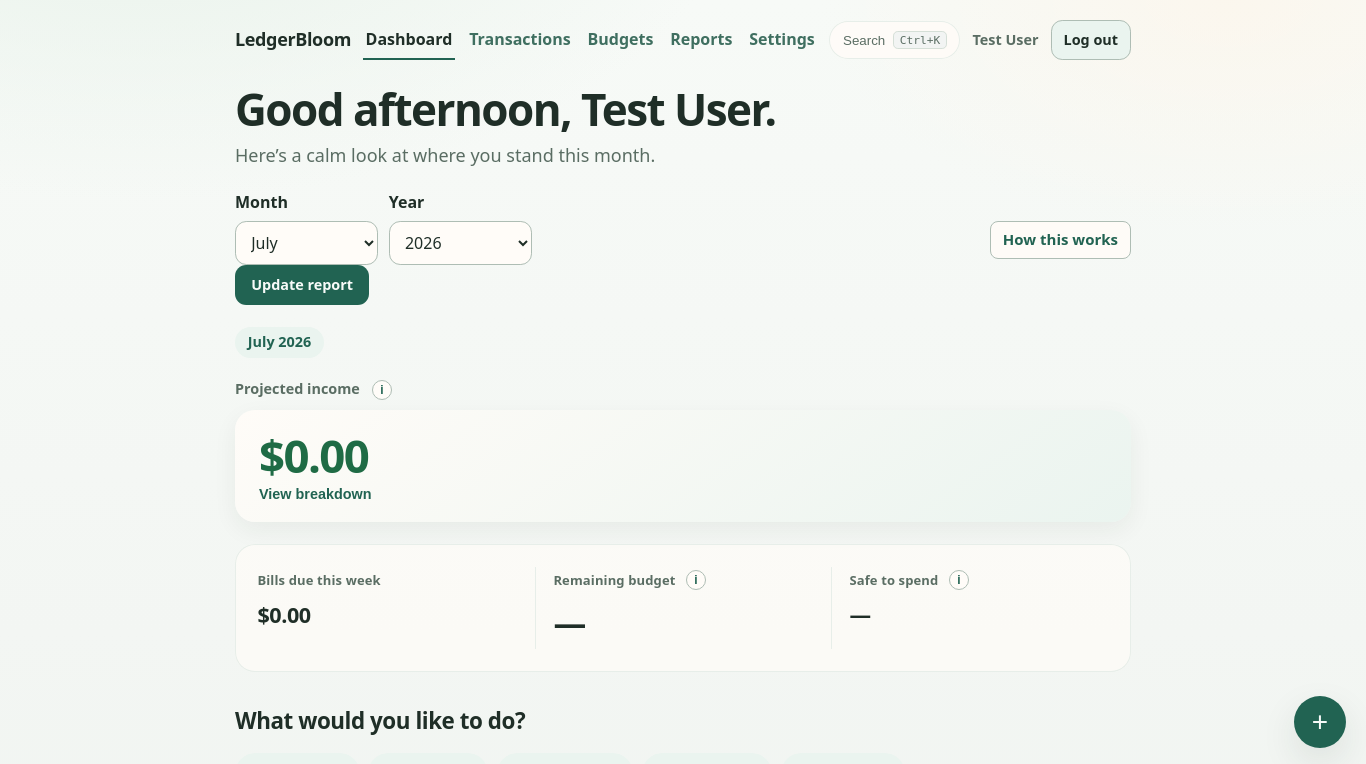
Test: Recurring routes › navigates from Dashboard to expenses with recurring bills via Transactions
expect the heading "Good afternoon, Test User." is shown: met, box [235,79,776,139]
Click the link "Transactions" at (520, 39), box [469,28,571,50]
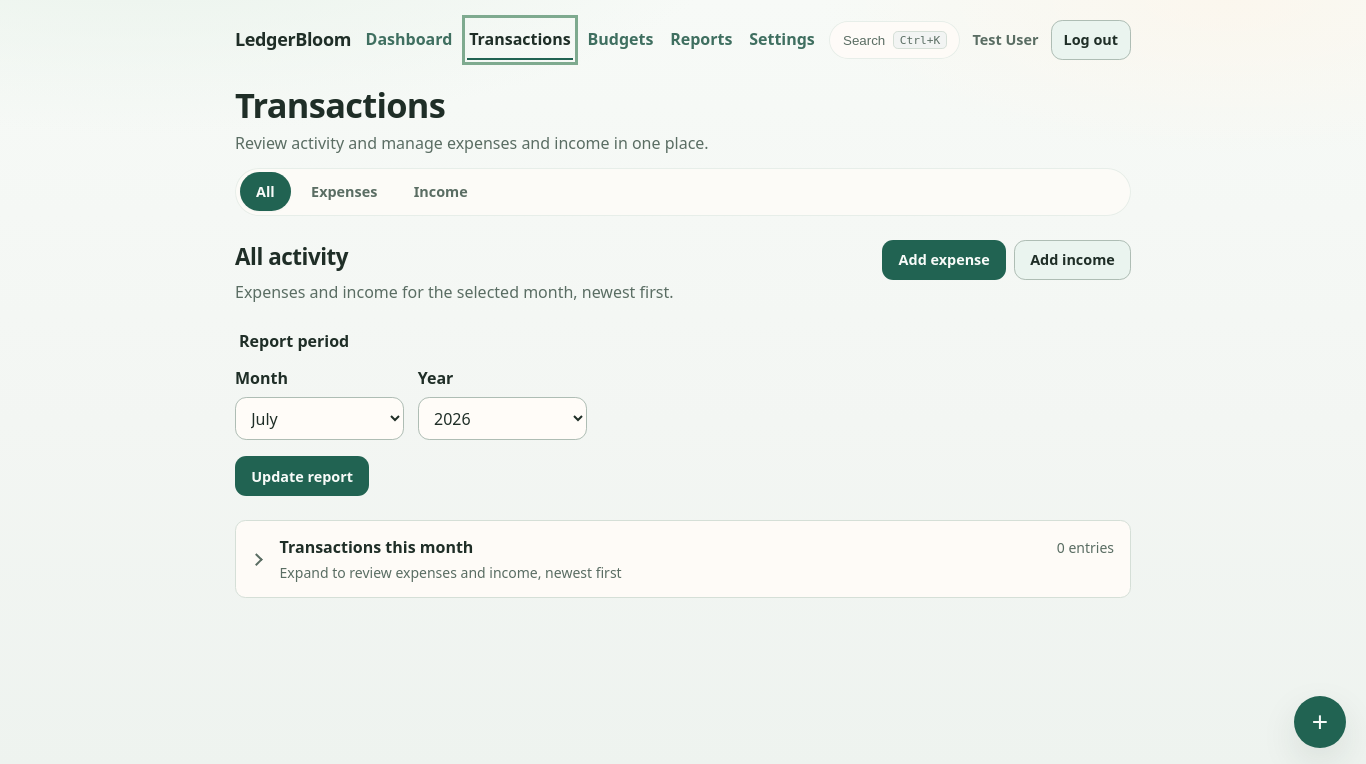
Click the link "Expenses" at (344, 191), box [311,182,377,200]
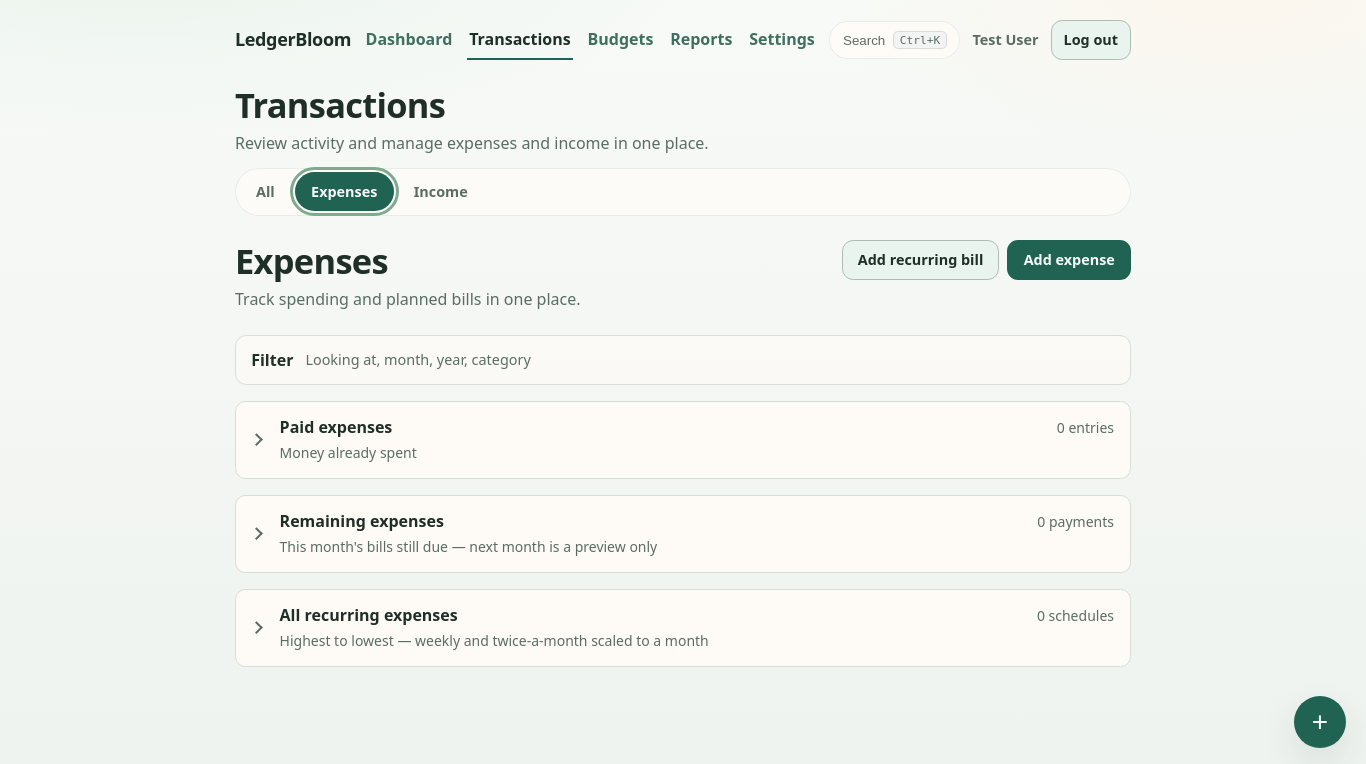
expect the heading "Expenses" is shown: met, box [235,237,388,284]
